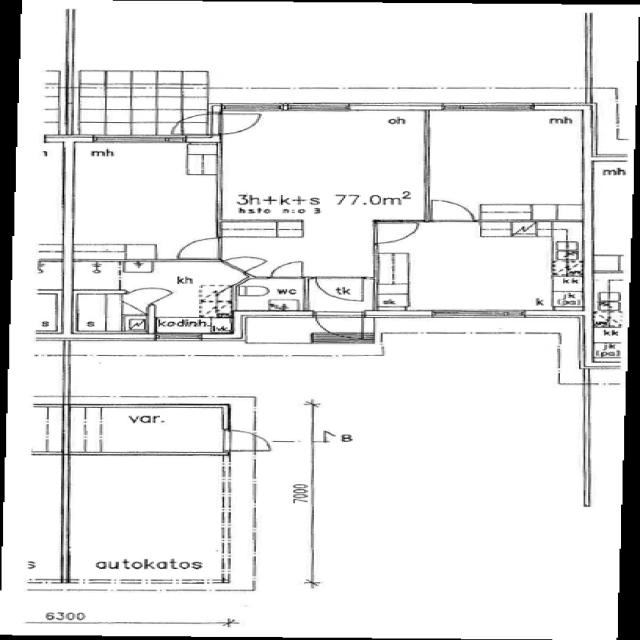door: (314, 310, 362, 340), (123, 280, 175, 306), (315, 276, 362, 302), (166, 114, 222, 134), (207, 114, 263, 134), (220, 428, 270, 449), (430, 198, 472, 222), (222, 252, 267, 273), (372, 223, 418, 243), (177, 238, 222, 257), (270, 261, 301, 279)
